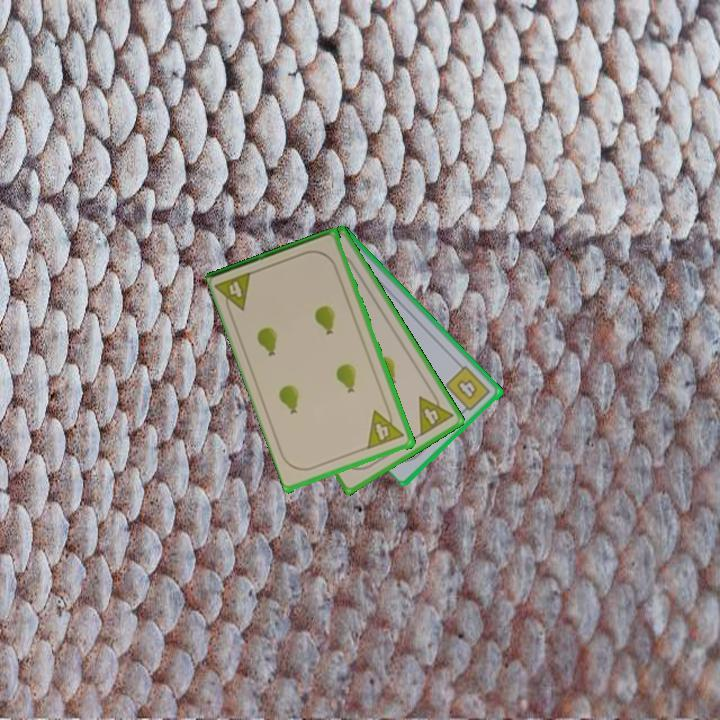4b: (442, 362, 494, 417)
4p: (415, 386, 456, 439), (213, 268, 256, 318), (364, 403, 407, 452)
